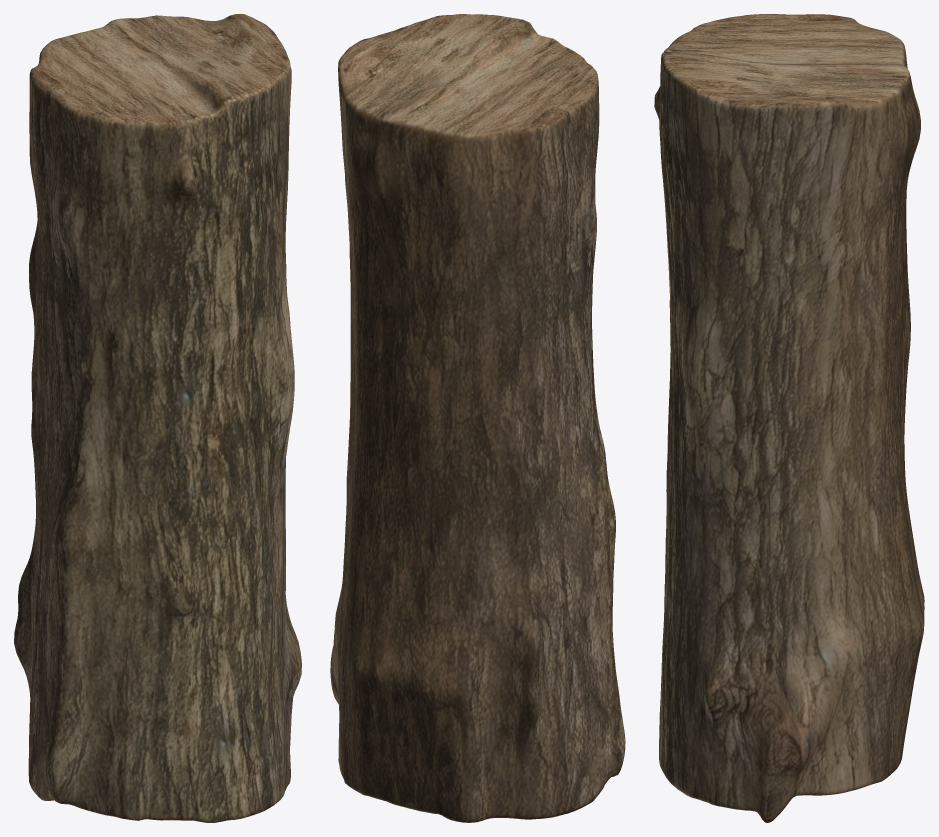
Rendered from log.fbx.
3 renders of one model, left to right at view 1: azimuth 30°, elevation 25°; view 2: azimuth 150°, elevation 25°; view 3: azimuth 270°, elevation 25°, orthographic.
Visible parts, largest first — view 1: log; view 2: log; view 3: log.
Part boxes in pixels (x1=…): log: x1=14, y1=14, x2=301, y2=822; log: x1=330, y1=14, x2=625, y2=822; log: x1=654, y1=14, x2=924, y2=822.
Bounding box in the file's own units: 26.6 × 69.55 × 23.72.
Materials: 1 (1 with a texture image).
